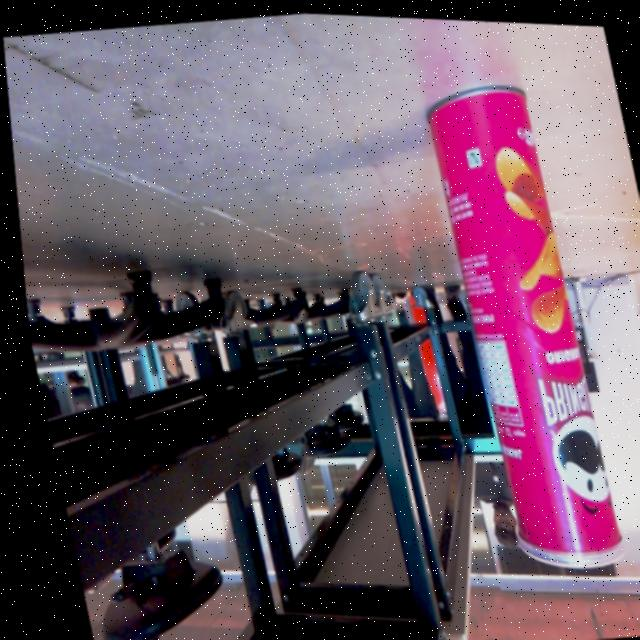redpringles: (409, 65, 621, 581)
